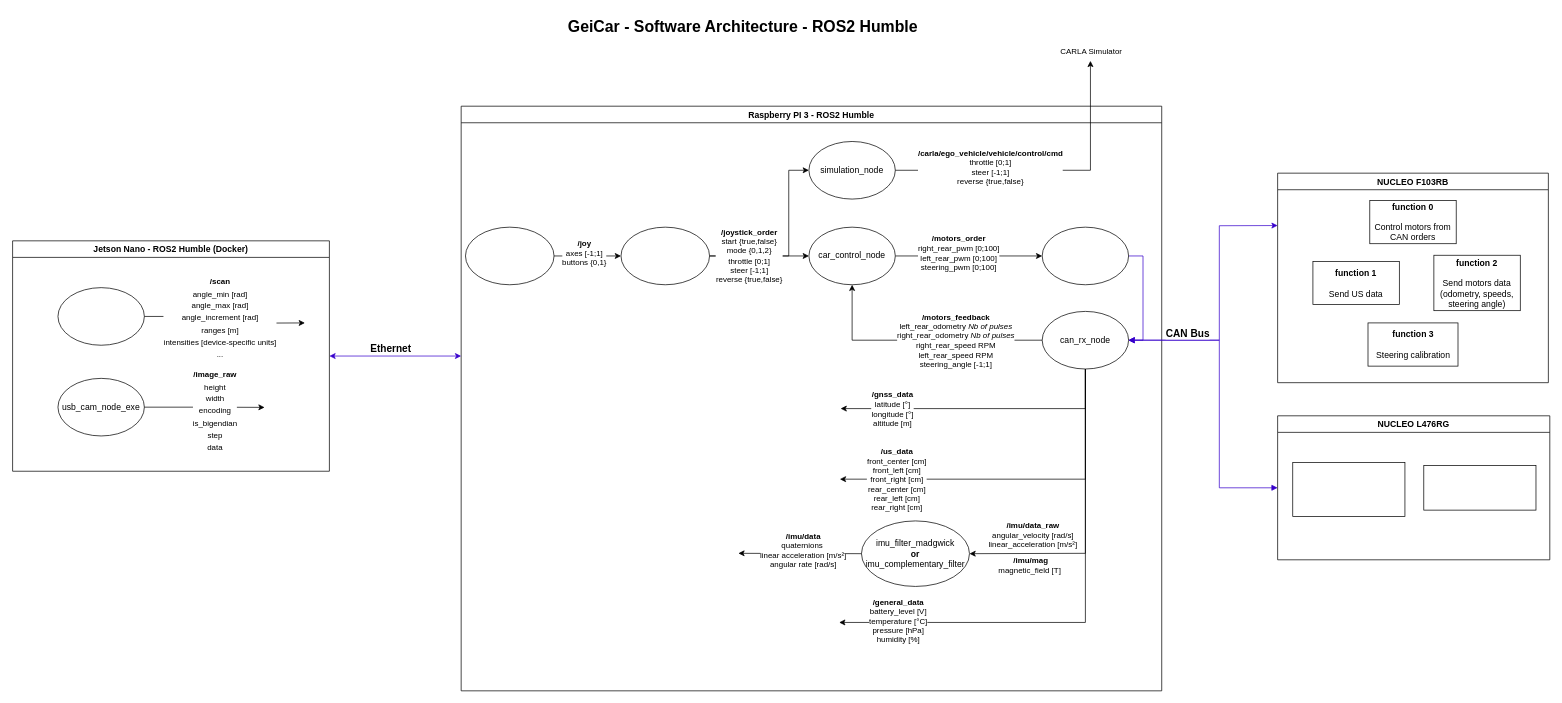
Image size: 1562x703. Some labels were removed from this diagram. The shapes that lost their labels are listed below. From the top down, each one's centre as x and y in pixels, then its label:
At pixel 509 255: "joystick_ros2".
At pixel 665 255: "joystick_to_cmd_node".
At pixel 1085 255: "can_tx_node".
At pixel 100 316: "rplidar_ros".
At pixel 1348 489: "function 0 Send IMU data (magnetic, angular rate, linear acceleration)".
At pixel 1479 487: "function 1 Send GNSS data (latitude, longitude, altitude)".
